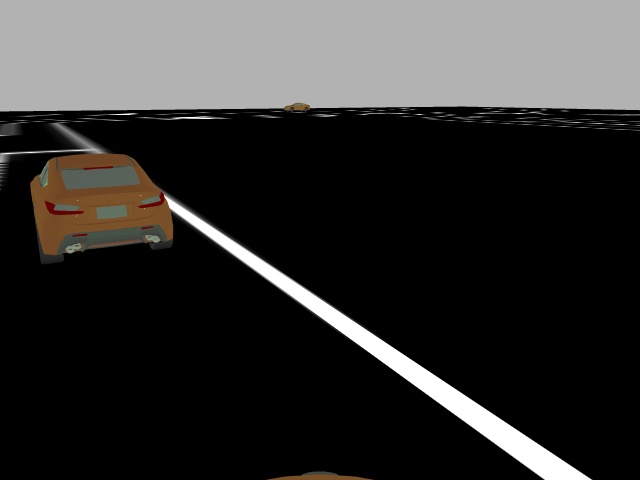obstacle_car: (25, 156, 179, 264)
